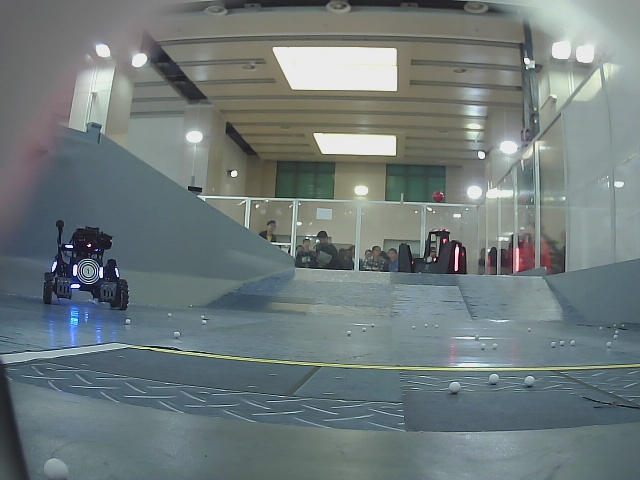lamp: (97, 265, 104, 280), (72, 263, 77, 275)
pair: (72, 263, 103, 279)
